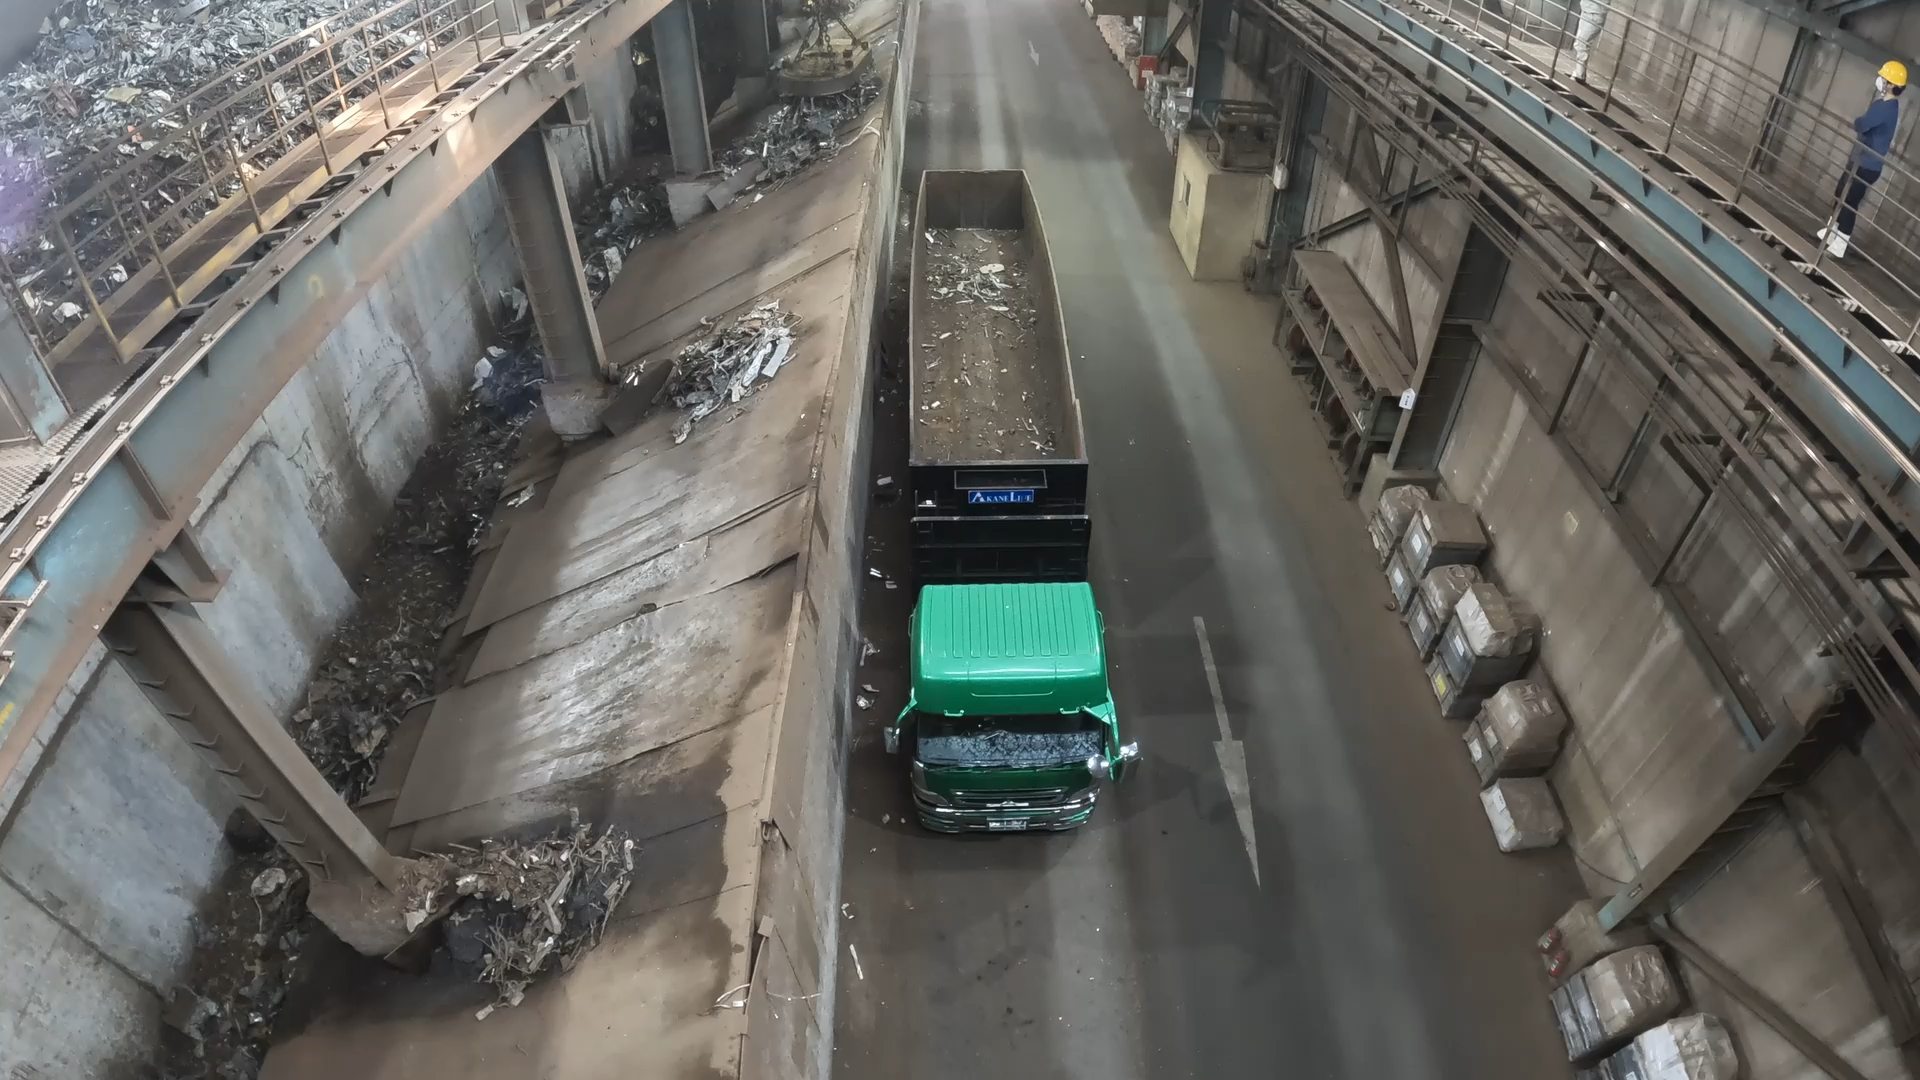truck: (910, 169, 1085, 463)
